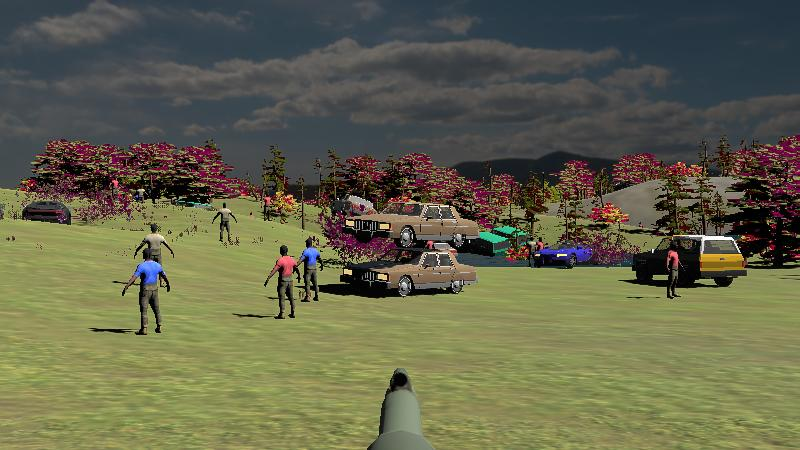Human: (121, 246, 170, 335), (265, 244, 302, 319), (295, 236, 323, 303), (665, 242, 684, 299)
car: (340, 251, 478, 297), (632, 234, 746, 287), (352, 202, 481, 248), (534, 240, 597, 269), (534, 240, 597, 268), (22, 200, 72, 225)
